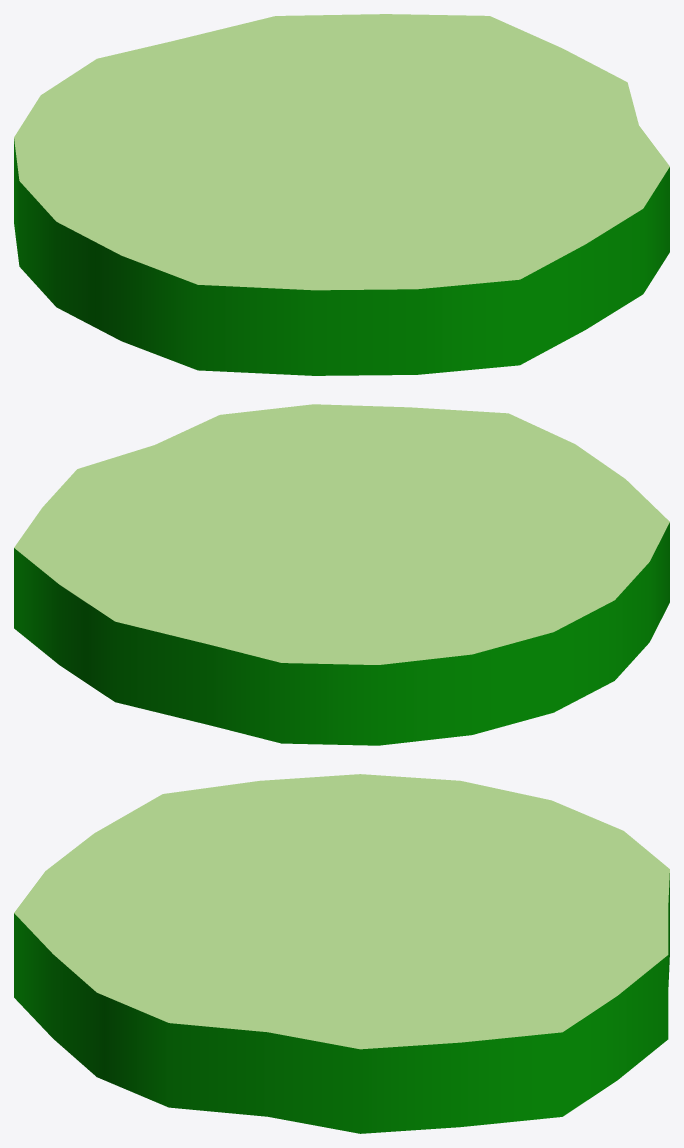
Rendered from pickle.fbx.
3 renders of one model, top to bottom at view 1: azimuth 30°, elevation 25°; view 2: azimuth 150°, elevation 25°; view 3: azimuth 270°, elevation 25°, orthographic. The views are drawn at different scales.
Parts seen in each view (by area): view 1: pickle01; view 2: pickle01; view 3: pickle01.
Boxes of the visible parts, <box> form: pickle01: <box>14,14,669,375</box>; pickle01: <box>14,404,669,745</box>; pickle01: <box>14,774,669,1133</box>.
Size of the model in its own units: 4.89 by 0.7 by 4.92.
